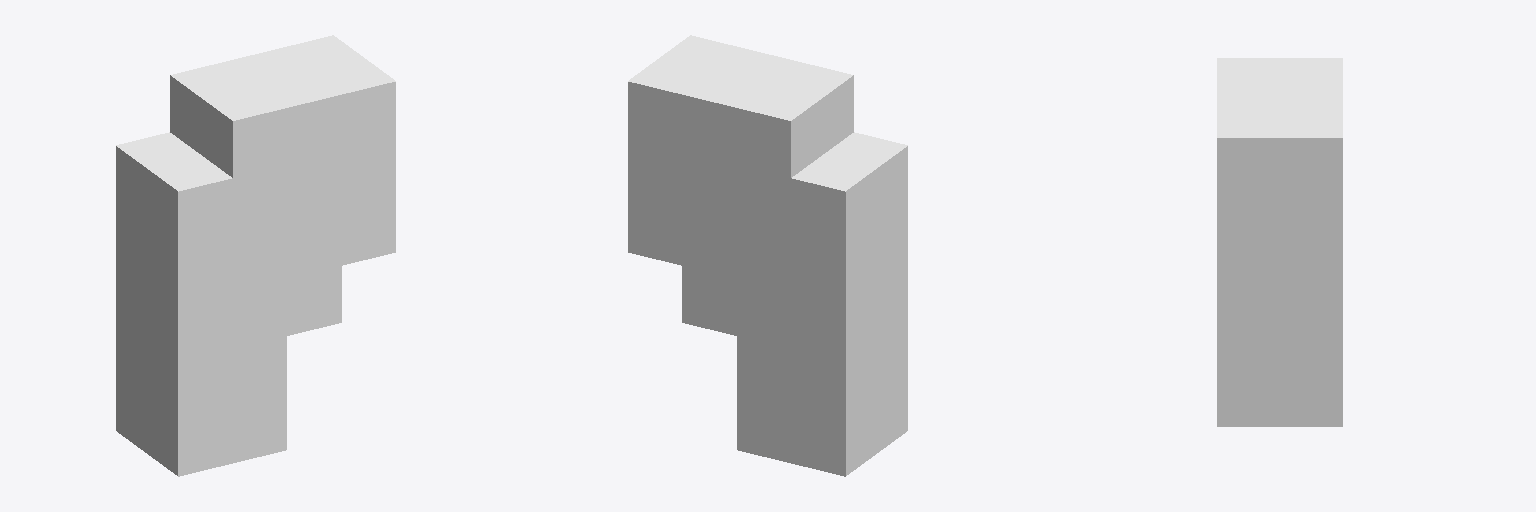
Rendered from l_thigh.obj.
The picture shows the model from 3 angles: view 1: azimuth 30°, elevation 25°; view 2: azimuth 150°, elevation 25°; view 3: azimuth 270°, elevation 25°; orthographic projection.
Parts seen in each view (by area): view 1: object 1; view 2: object 1; view 3: object 1.
Boxes of the visible parts, box(x1,y1,x2,y2) form: object 1: box(116, 35, 395, 476); object 1: box(628, 35, 907, 476); object 1: box(1217, 58, 1342, 426).
Bounding box in the file's own units: 0.4 × 0.6 × 0.2.